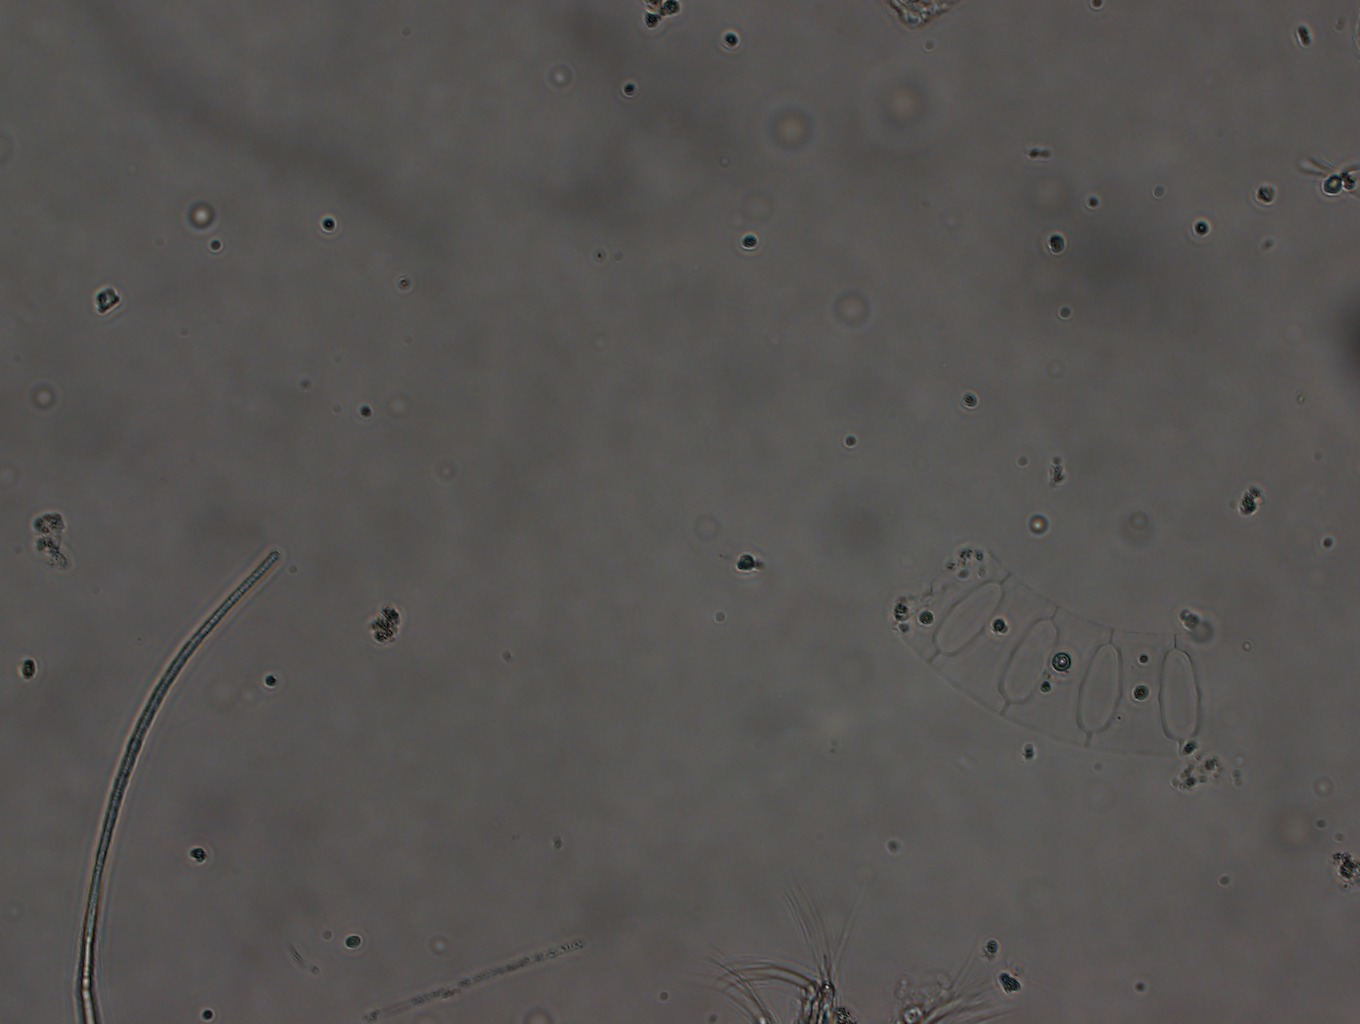eucampia: (881, 523, 1217, 780)
